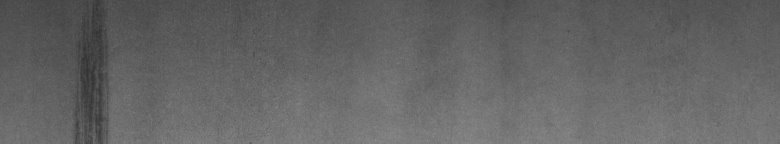ka: (67, 4, 116, 136)
